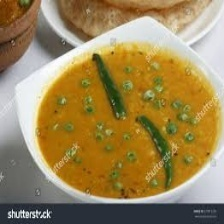dal: (36, 43, 221, 199)
